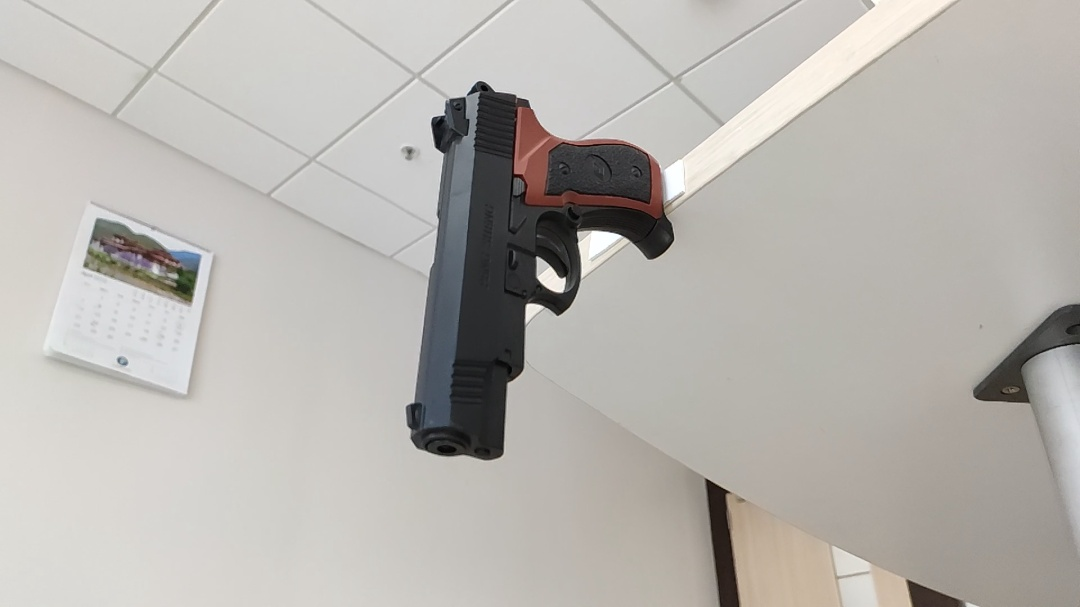gun: (399, 76, 677, 467)
